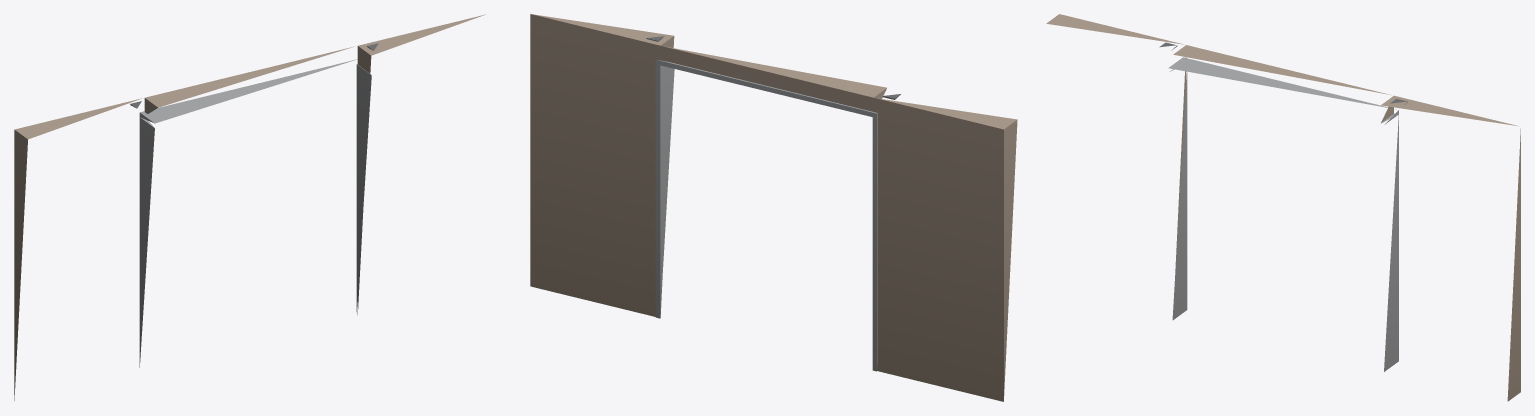
Rendered from doubleDoor_regocrete_meshin.glb.
3 views of the same model, side by side, from view 1: azimuth 30°, elevation 25°; view 2: azimuth 150°, elevation 25°; view 3: azimuth 330°, elevation 25° (orthographic). The views are drawn at different scales.
Parts seen in each view (by area): view 1: doubleDoor_regocrete_meshin; view 2: doubleDoor_regocrete_meshin; view 3: doubleDoor_regocrete_meshin.
Boxes of the visible parts, box(x1,y1,x2,y2) form: doubleDoor_regocrete_meshin: box(14, 14, 485, 400); doubleDoor_regocrete_meshin: box(530, 14, 1017, 401); doubleDoor_regocrete_meshin: box(1046, 14, 1520, 401).
Size of the model in its own units: 4 by 2.21 by 0.224.
